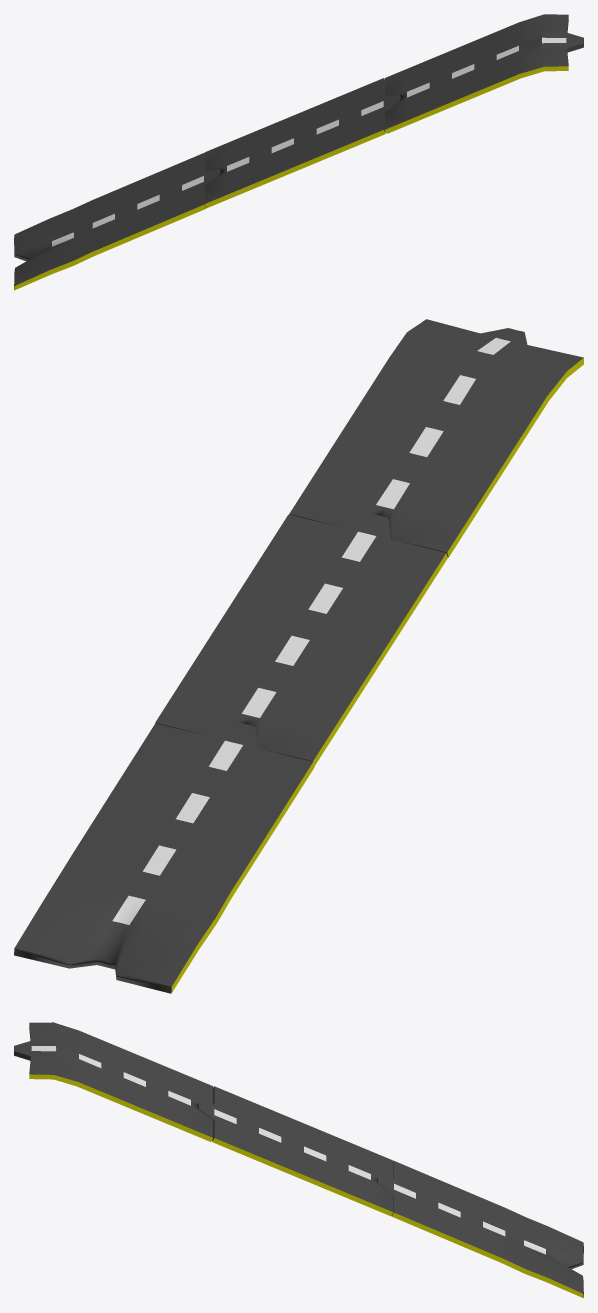
File: Small Forward Ramp.fbx
3 views of the same model, one above another, from view 1: azimuth 90°, elevation 25°; view 2: azimuth 150°, elevation 25°; view 3: azimuth 270°, elevation 25° (orthographic). The views are drawn at different scales.
Parts seen in each view (by area): view 1: straight_piece24, straight_piece26, straight_piece25; view 2: straight_piece24, straight_piece25, straight_piece26; view 3: straight_piece24, straight_piece26, straight_piece25.
Boxes of the visible parts, bbox=[...] form: straight_piece24: bbox=[14, 153, 220, 290]; straight_piece26: bbox=[384, 14, 583, 133]; straight_piece25: bbox=[204, 78, 400, 207]; straight_piece24: bbox=[14, 722, 314, 993]; straight_piece25: bbox=[155, 513, 447, 765]; straight_piece26: bbox=[289, 319, 583, 557]; straight_piece24: bbox=[377, 1161, 583, 1298]; straight_piece26: bbox=[14, 1022, 213, 1141]; straight_piece25: bbox=[197, 1086, 393, 1216].
Bounding box in the file's own units: 8.64 × 17.35 × 39.67.
